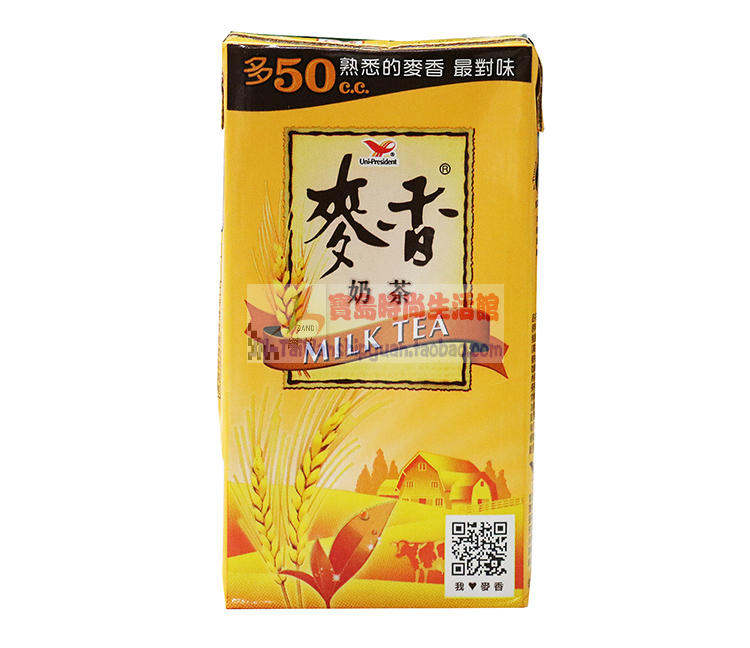milk tea: (222, 33, 533, 612)
